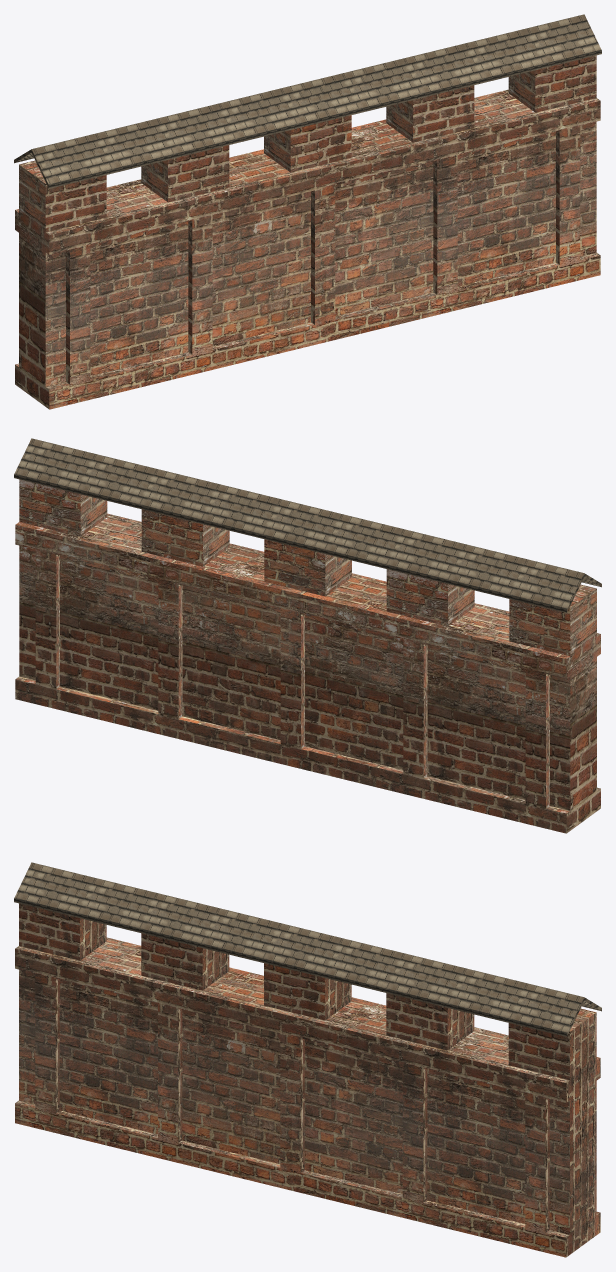
The model's file is brickwall.FBX.
3 renders of one model, top to bottom at view 1: azimuth 30°, elevation 25°; view 2: azimuth 150°, elevation 25°; view 3: azimuth 330°, elevation 25°, orthographic.
Parts seen in each view (by area): view 1: Box002, fenceroof; view 2: Box002, fenceroof; view 3: Box002, fenceroof.
Boxes of the visible parts, <box> form: Box002: <box>15,55,600,409</box>; fenceroof: <box>14,14,601,188</box>; Box002: <box>15,479,600,833</box>; fenceroof: <box>14,438,601,612</box>; Box002: <box>15,903,600,1257</box>; fenceroof: <box>14,862,601,1036</box>.
Bounding box in the file's own units: 185 × 79.34 × 20.35.
